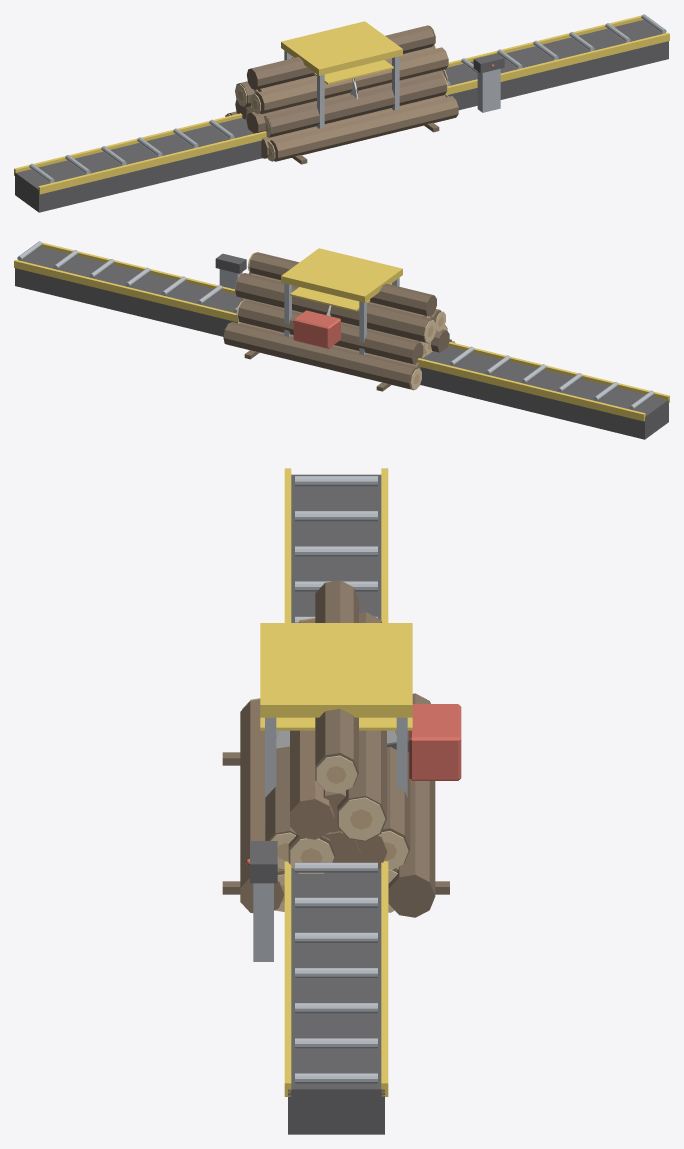
File: mill_floor.glb
The picture shows the model from 3 angles, top to bottom: view 1: azimuth 30°, elevation 25°; view 2: azimuth 150°, elevation 25°; view 3: azimuth 270°, elevation 25°; orthographic projection. The views are drawn at different scales.
Visible parts, largest first — view 1: ml_sawline_mesh, ml_pile4_mesh, ml_pile3_mesh; view 2: ml_sawline_mesh, ml_pile4_mesh, ml_pile3_mesh; view 3: ml_sawline_mesh, ml_pile4_mesh, ml_pile3_mesh.
Boxes of the visible parts, x1,y1,x2,y2 form: ml_sawline_mesh: (14,14,669,212); ml_pile4_mesh: (225,25,458,164); ml_pile3_mesh: (245,46,448,159); ml_sawline_mesh: (14,241,669,439); ml_pile4_mesh: (223,252,455,391); ml_pile3_mesh: (238,273,449,386); ml_sawline_mesh: (246,468,461,1134); ml_pile4_mesh: (222,580,449,917); ml_pile3_mesh: (275,789,398,912).
Size of the model in its own units: 21 by 2.61 by 3.44.
